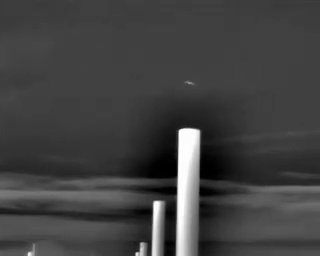BIRD: (183, 78, 197, 90)
